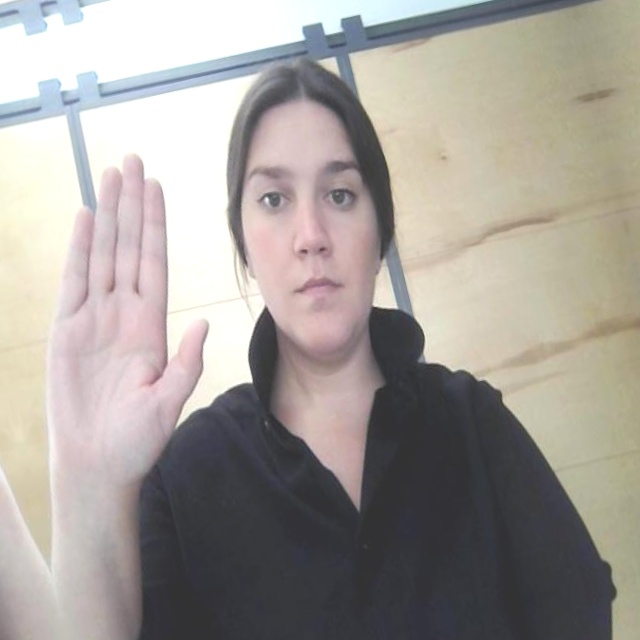Paper: (0, 138, 254, 502)
